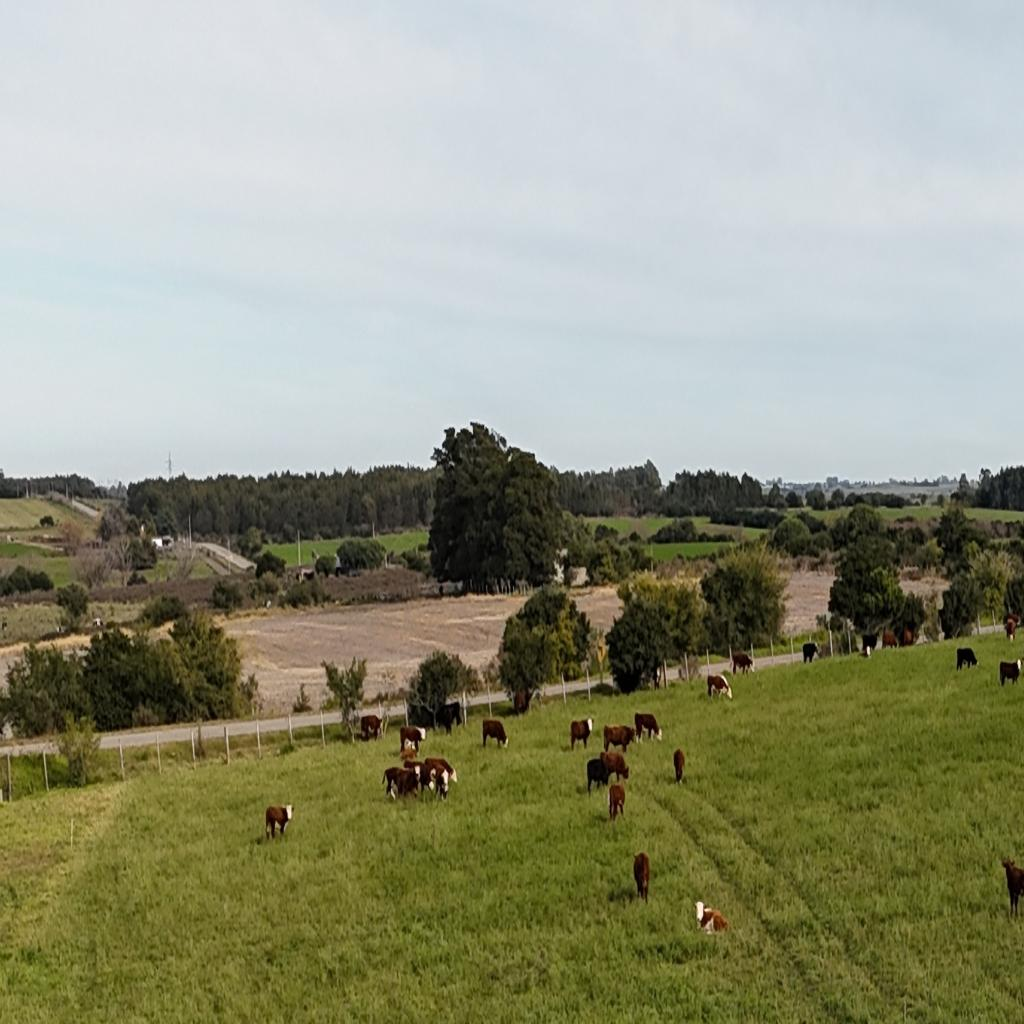cow: (382, 766, 421, 802), (1001, 857, 1023, 918), (692, 898, 729, 933), (423, 760, 455, 798), (586, 753, 611, 795), (265, 804, 293, 840), (600, 750, 631, 782), (603, 724, 635, 752), (633, 852, 650, 904), (436, 701, 461, 736), (634, 712, 662, 742), (570, 717, 594, 751), (482, 718, 508, 749), (398, 724, 424, 755), (608, 780, 626, 821), (706, 673, 731, 699), (999, 657, 1021, 686), (359, 714, 382, 741), (731, 652, 755, 676), (956, 646, 978, 670), (513, 690, 532, 717), (860, 633, 878, 657), (673, 748, 685, 784), (802, 642, 820, 664), (1004, 617, 1020, 641), (881, 629, 899, 650), (902, 628, 914, 648)
